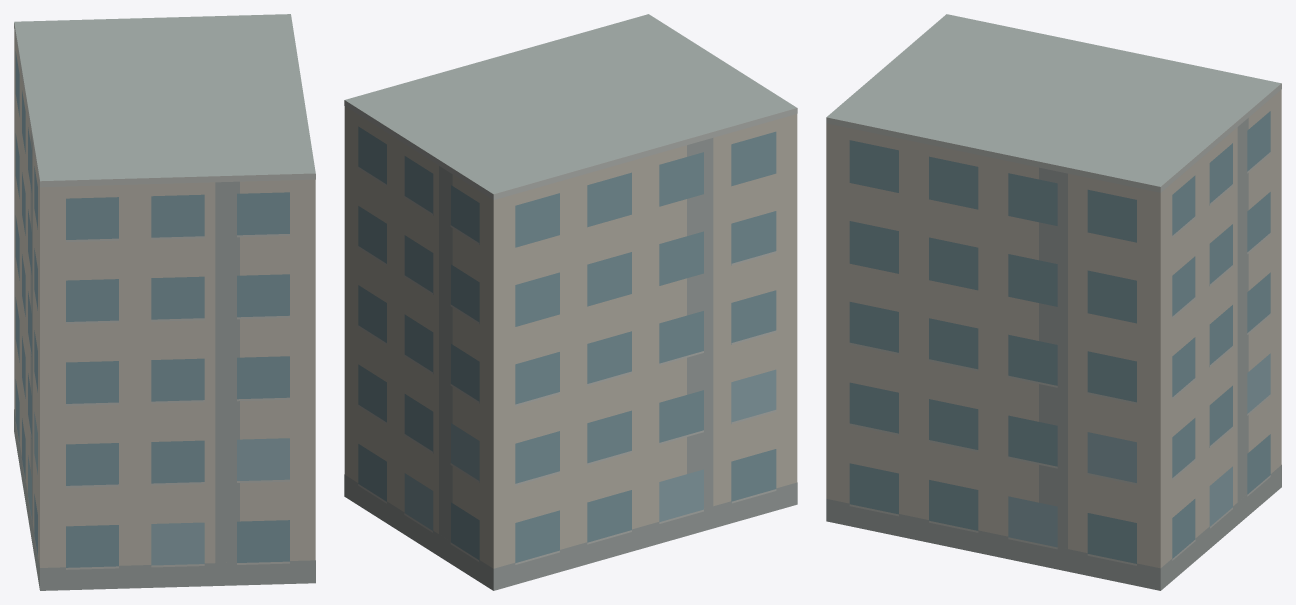
Rendered from survey-upis-33020243.glb.
The picture shows the model from 3 angles, left to right: view 1: azimuth 30°, elevation 25°; view 2: azimuth 150°, elevation 25°; view 3: azimuth 270°, elevation 25°; orthographic projection. The views are drawn at different scales.
Visible parts, largest first — view 1: survey-upis-33020243.tmp; view 2: survey-upis-33020243.tmp; view 3: survey-upis-33020243.tmp.
Part boxes in pixels (<box>): survey-upis-33020243.tmp: <box>14,14,315,590</box>; survey-upis-33020243.tmp: <box>344,14,797,590</box>; survey-upis-33020243.tmp: <box>826,14,1281,590</box>.
Bounding box in the file's own units: 15.16 × 16.5 × 16.87.
